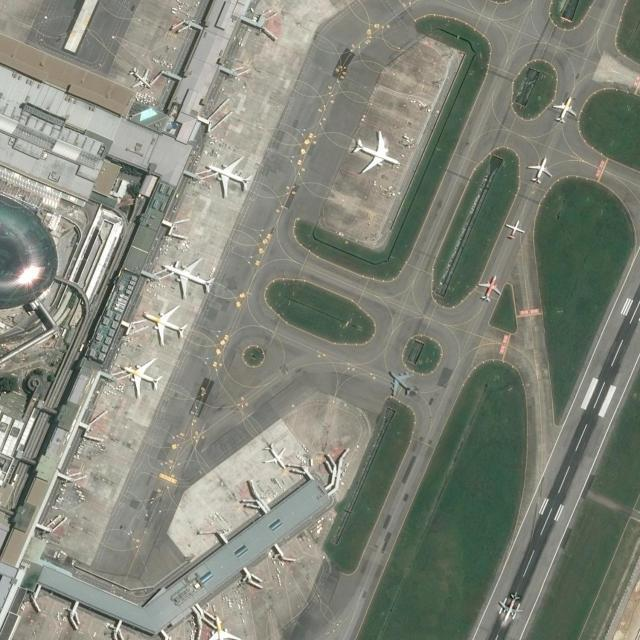Aircraft: (351, 129, 401, 174), (161, 256, 214, 298), (205, 156, 253, 197), (141, 304, 189, 344), (120, 357, 164, 397), (205, 614, 241, 640), (387, 367, 415, 397), (551, 93, 577, 123), (526, 154, 552, 184), (477, 273, 503, 303), (498, 591, 524, 621), (262, 441, 288, 470), (127, 65, 152, 89), (504, 218, 525, 240)
